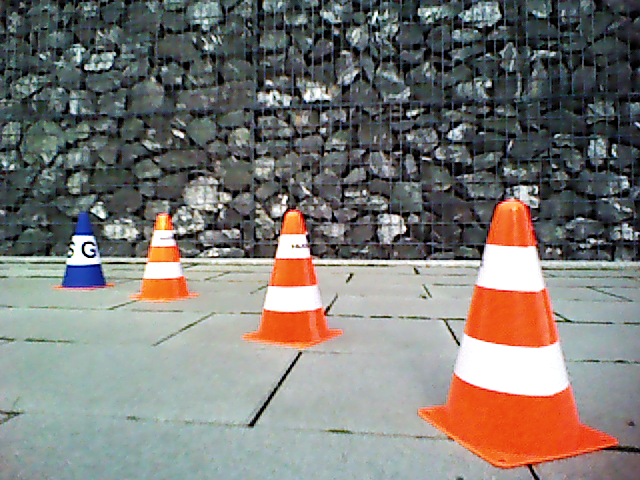bluecone: (62, 211, 109, 290)
orangeconesmall: (450, 200, 584, 446), (260, 210, 330, 342), (142, 212, 187, 298)
